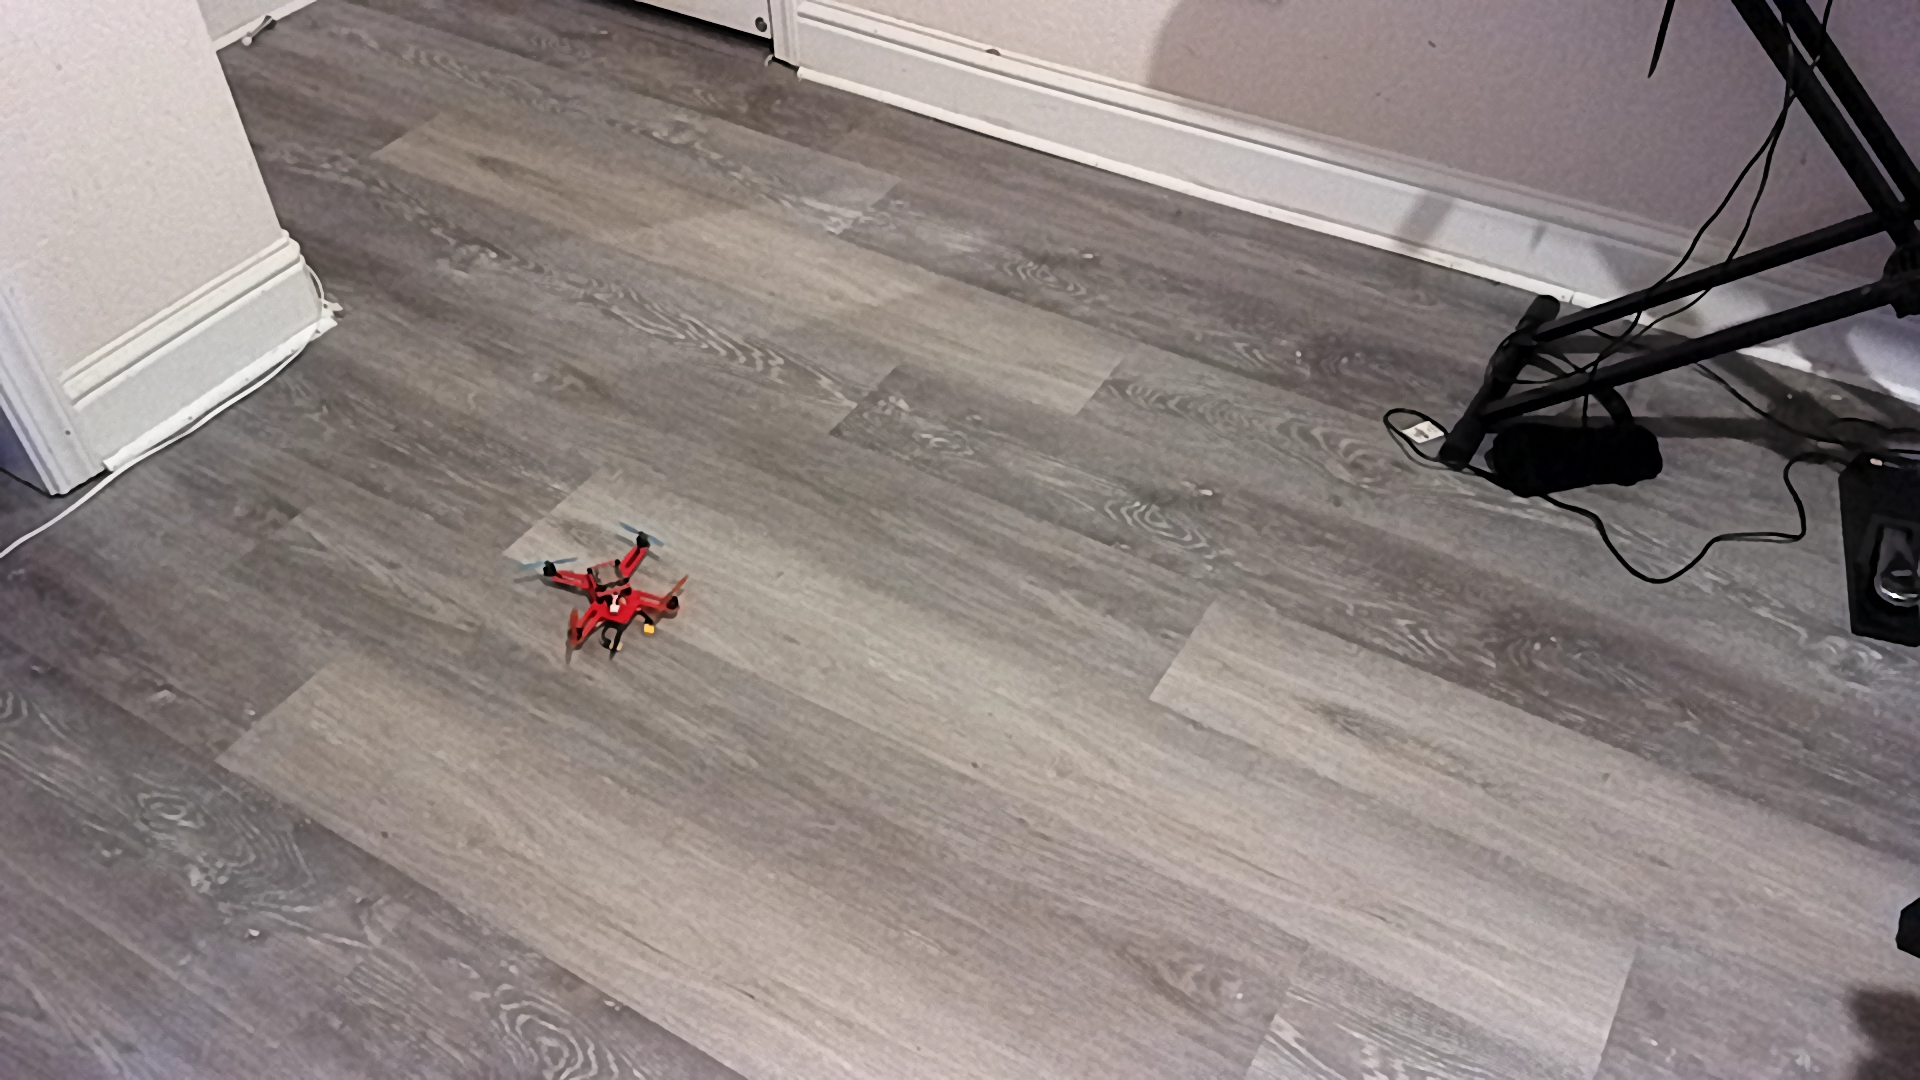drone: (506, 518, 717, 671)
